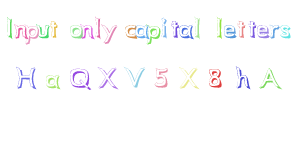5: (151, 65, 171, 91)
8: (205, 67, 226, 91)
A: (258, 65, 283, 92)
H: (13, 63, 40, 92)
I: (1, 12, 19, 41)
Q: (68, 65, 93, 92)
V: (122, 64, 147, 92)
X: (176, 65, 201, 91), (96, 64, 119, 91)
a: (42, 71, 62, 91), (133, 22, 150, 41), (179, 24, 195, 42)
c: (124, 22, 138, 41)
e: (256, 21, 270, 40), (223, 23, 237, 41)
h: (233, 63, 252, 92)
i: (160, 16, 169, 39)
l: (91, 12, 104, 40), (193, 14, 205, 39), (212, 14, 223, 39)
n: (78, 20, 94, 39), (13, 23, 28, 41)
o: (68, 22, 83, 42)
p: (23, 22, 40, 47), (146, 20, 161, 46)
r: (268, 21, 281, 40)
s: (279, 21, 293, 41)
t: (48, 19, 62, 41), (246, 15, 257, 40), (169, 18, 181, 40), (236, 16, 247, 40)
u: (35, 21, 50, 39)
y: (101, 22, 119, 47)
